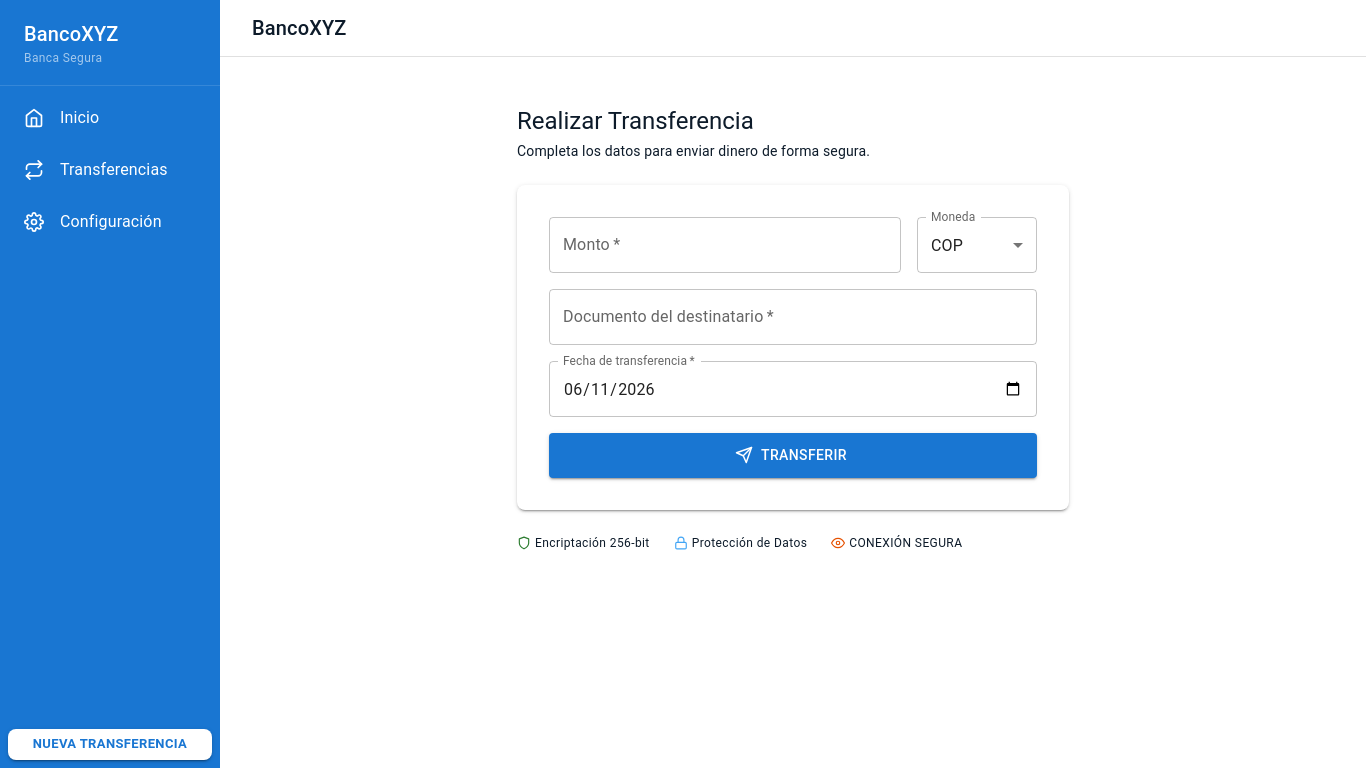
Test: TransferPage — validaciones del formulario › muestra error si documento está vacío
Click the button with test id "btn-submit-transfer" at (793, 455), box top-left (549, 433), bottom-right (1037, 478)
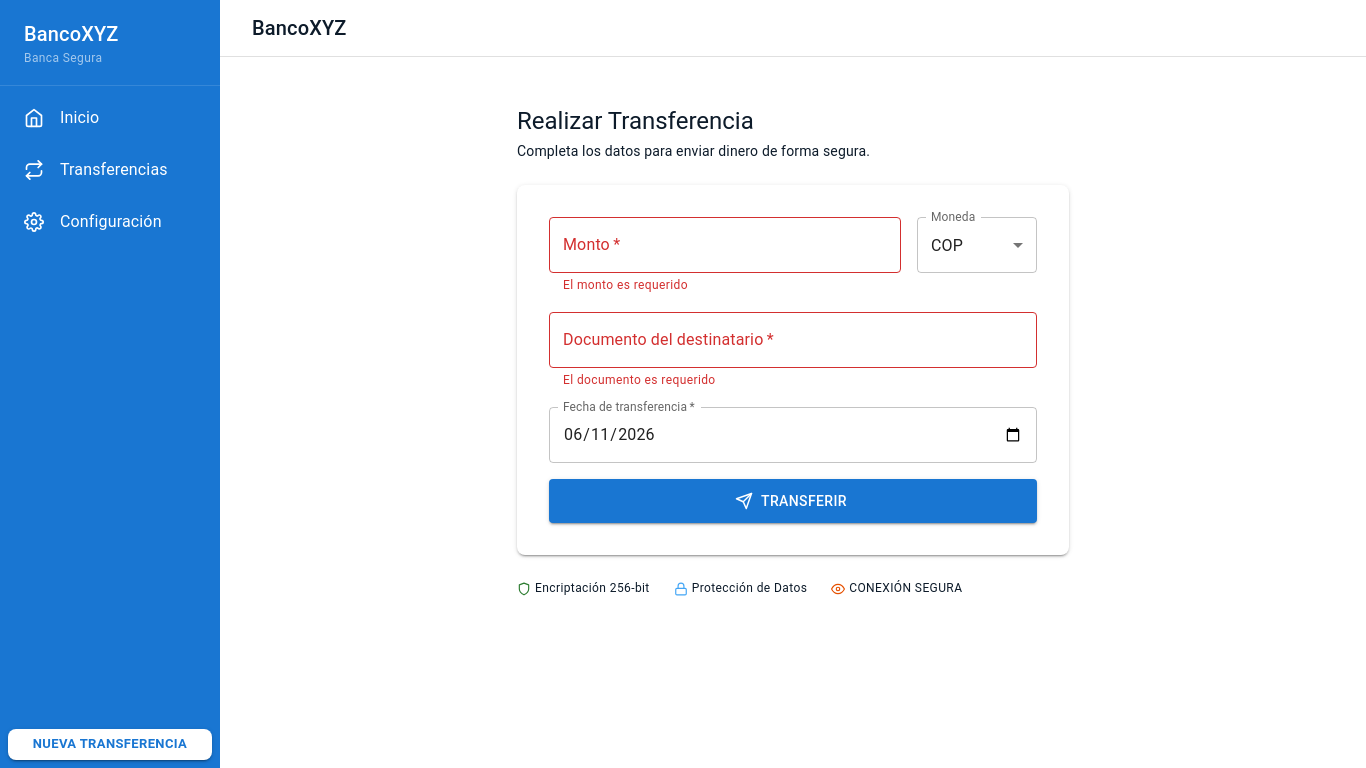
Now the text "El documento es requerido" is shown, box top-left (563, 373), bottom-right (716, 387)
